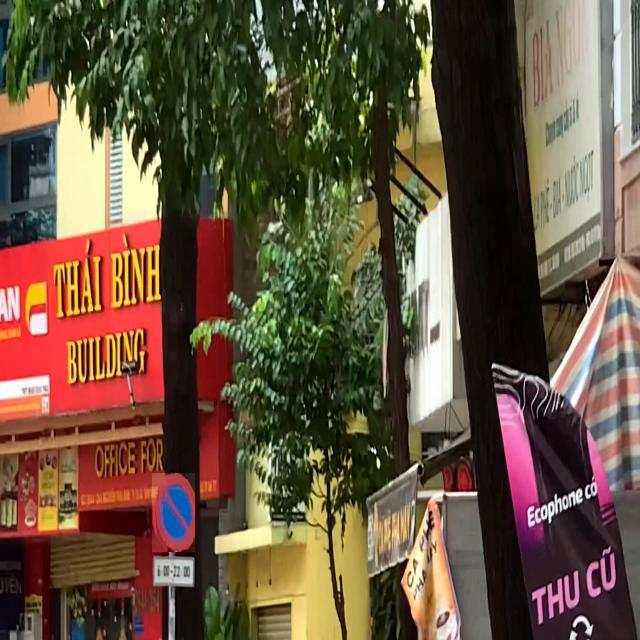P-131a: (152, 473, 195, 552)
